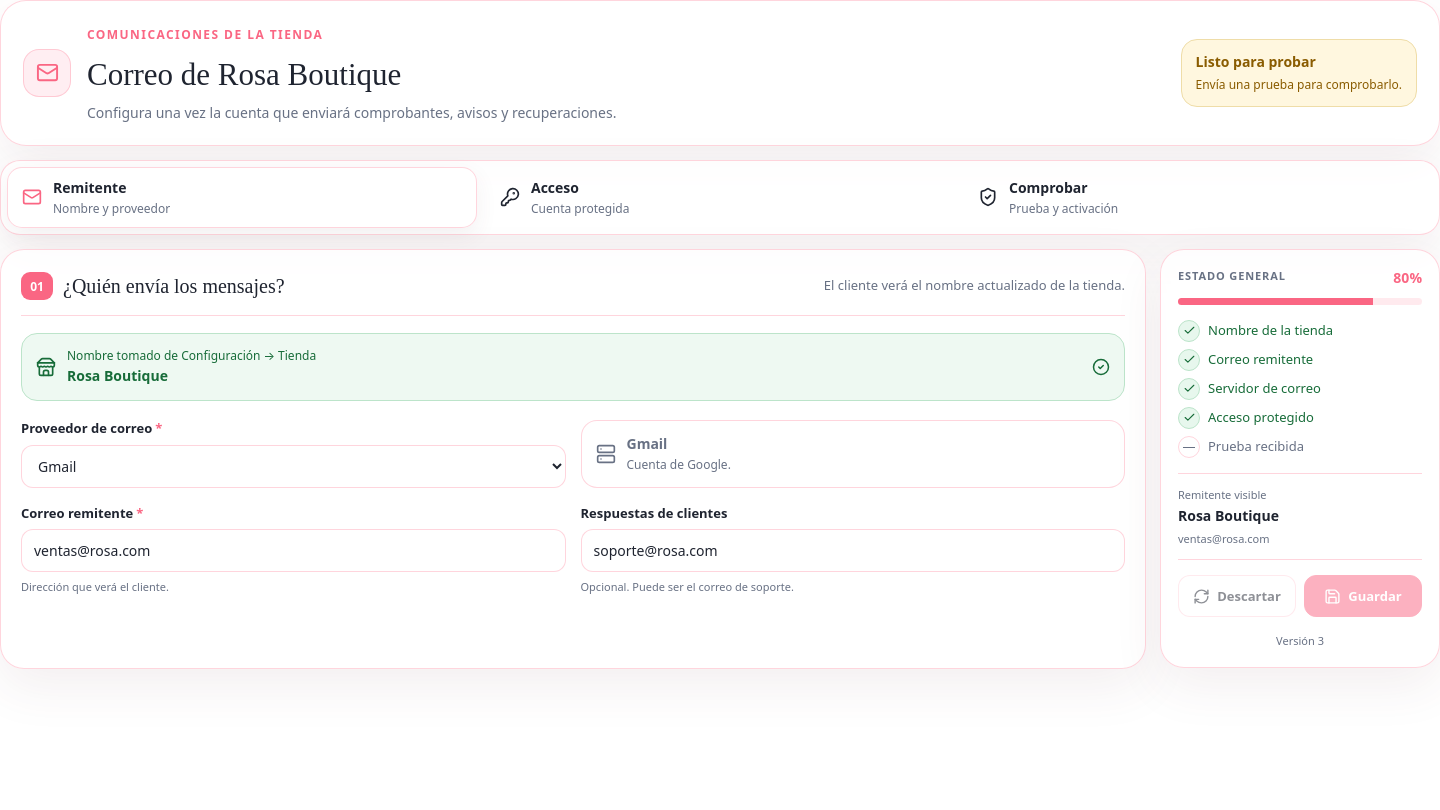
Test: CorreoSection › usa la identidad dinámica de Tienda y muestra solo una vista a la vez
This screenshot has width=1440, height=810.
Check: the heading "Correo de Rosa Boutique" is shown, box [87, 57, 401, 92]
Check: the text "Nombre tomado de Configuración → Tienda" is shown, box [67, 346, 316, 365]
Click the button with aria-label "Abrir Acceso" at (555, 187), box [485, 167, 955, 228]
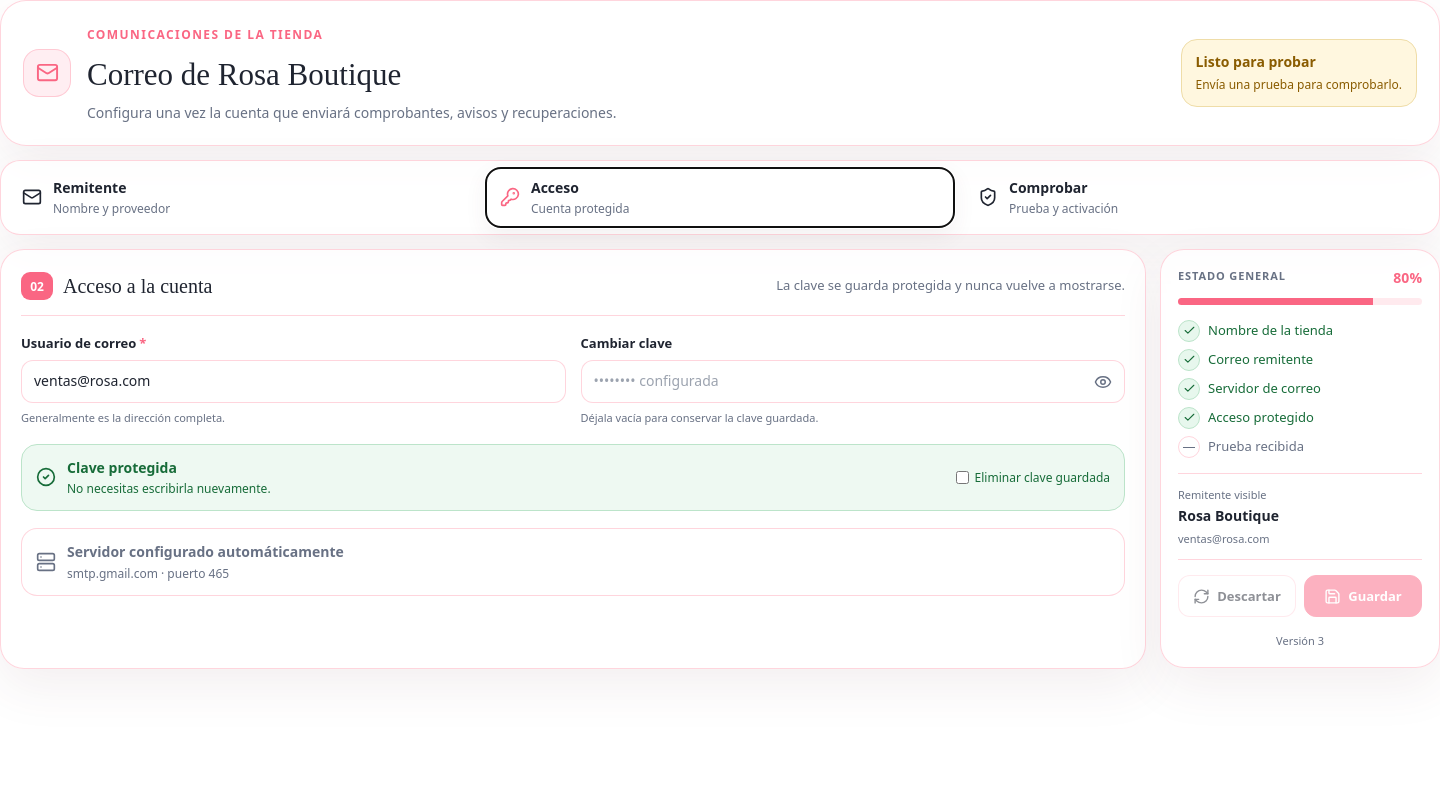
Check: the heading "Acceso a la cuenta" is shown, box [63, 270, 212, 302]
Check: the heading "¿Quién envía los mensajes?" is gone
